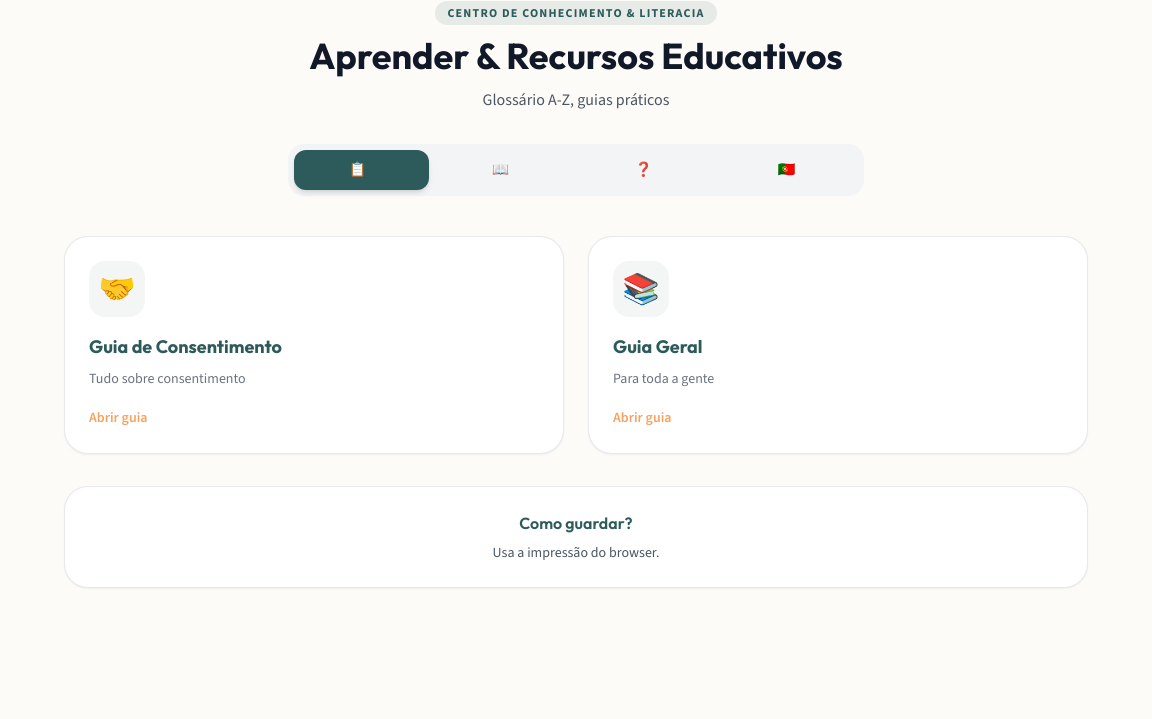
Test: ResourcesTab › returns to guide list when 'Ver todos' is clicked
Click the heading "Guia de Consentimento" at (185, 346), box x1=89 y1=335 x2=282 y2=358
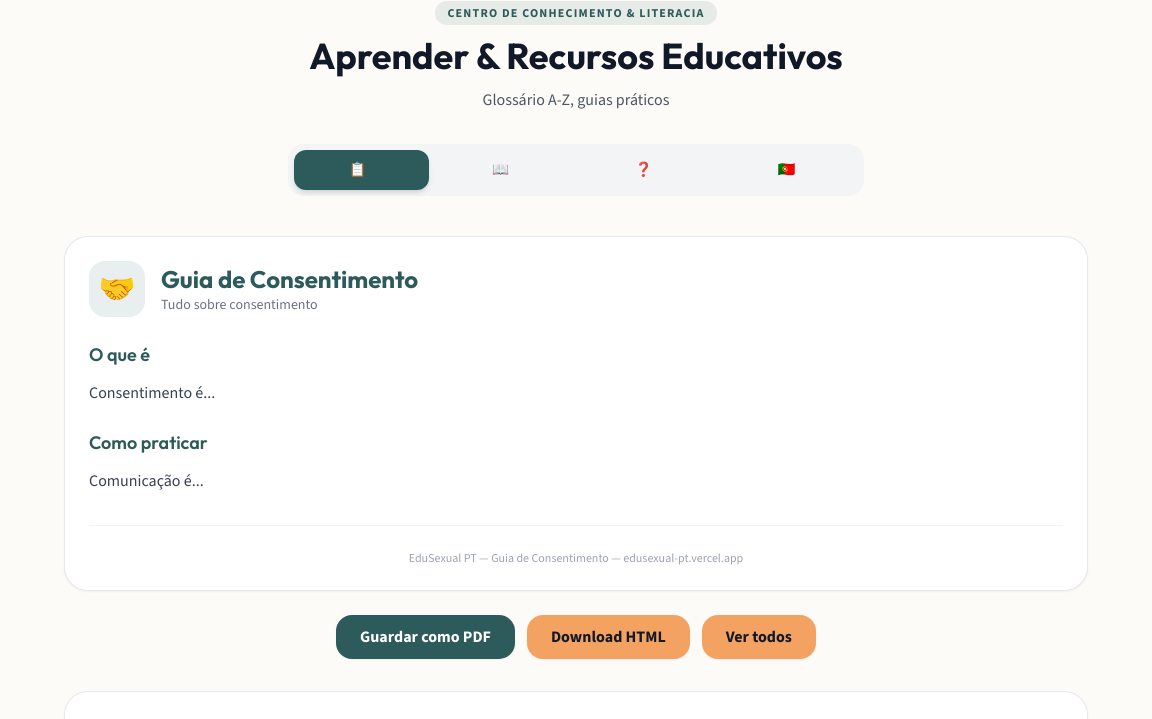
Expected: the heading "O que é" is shown, x1=89 y1=343 x2=150 y2=366
Click the button "Ver todos" at (759, 637), box x1=702 y1=615 x2=816 y2=659
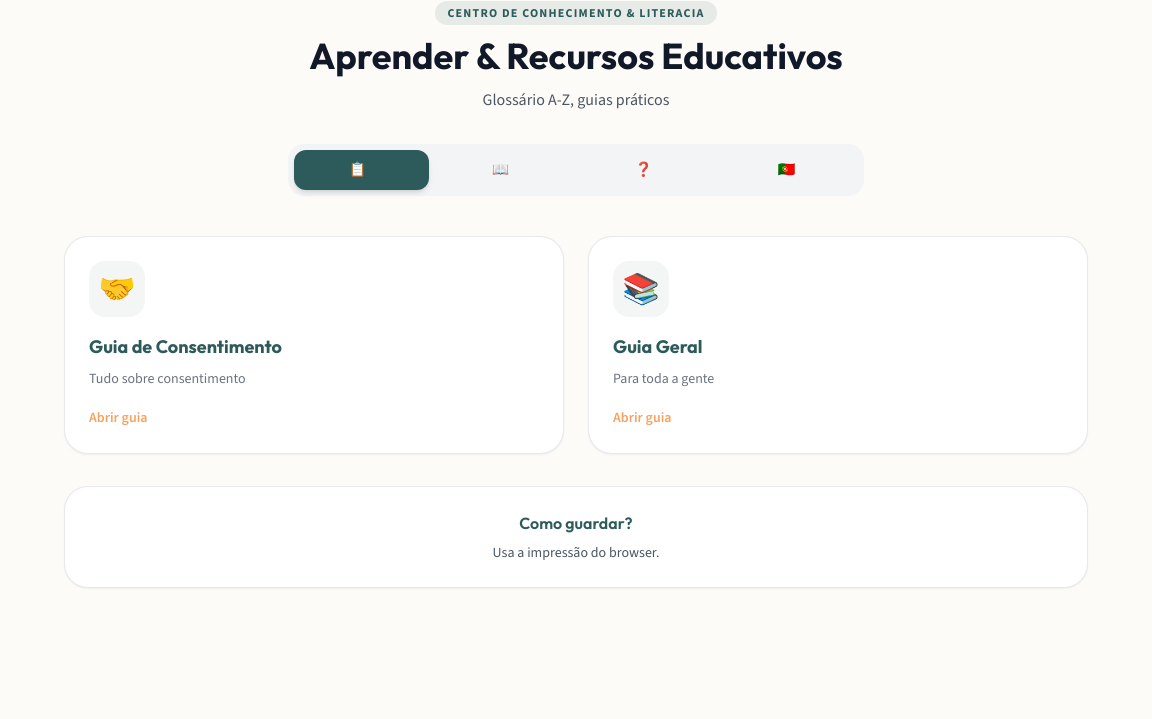
Expected: the heading "Guia de Consentimento" is shown, x1=89 y1=335 x2=282 y2=358
Expected: the heading "O que é" is gone
